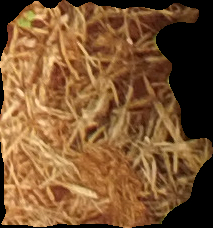soil: (3, 4, 210, 225)
